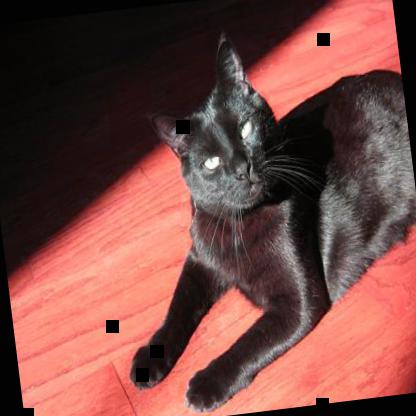cat: (86, 12, 415, 415)
